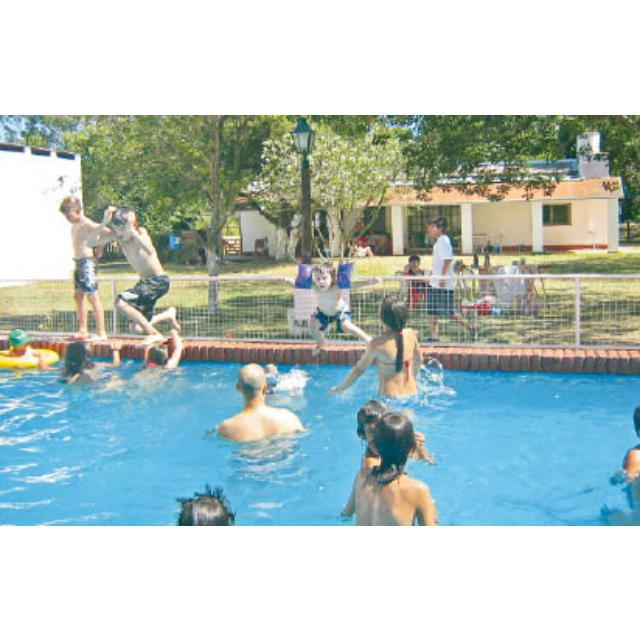human: (352, 398, 443, 525), (356, 296, 425, 401), (214, 361, 294, 441), (173, 481, 239, 526), (58, 339, 96, 379), (140, 338, 180, 370), (5, 327, 32, 359)
